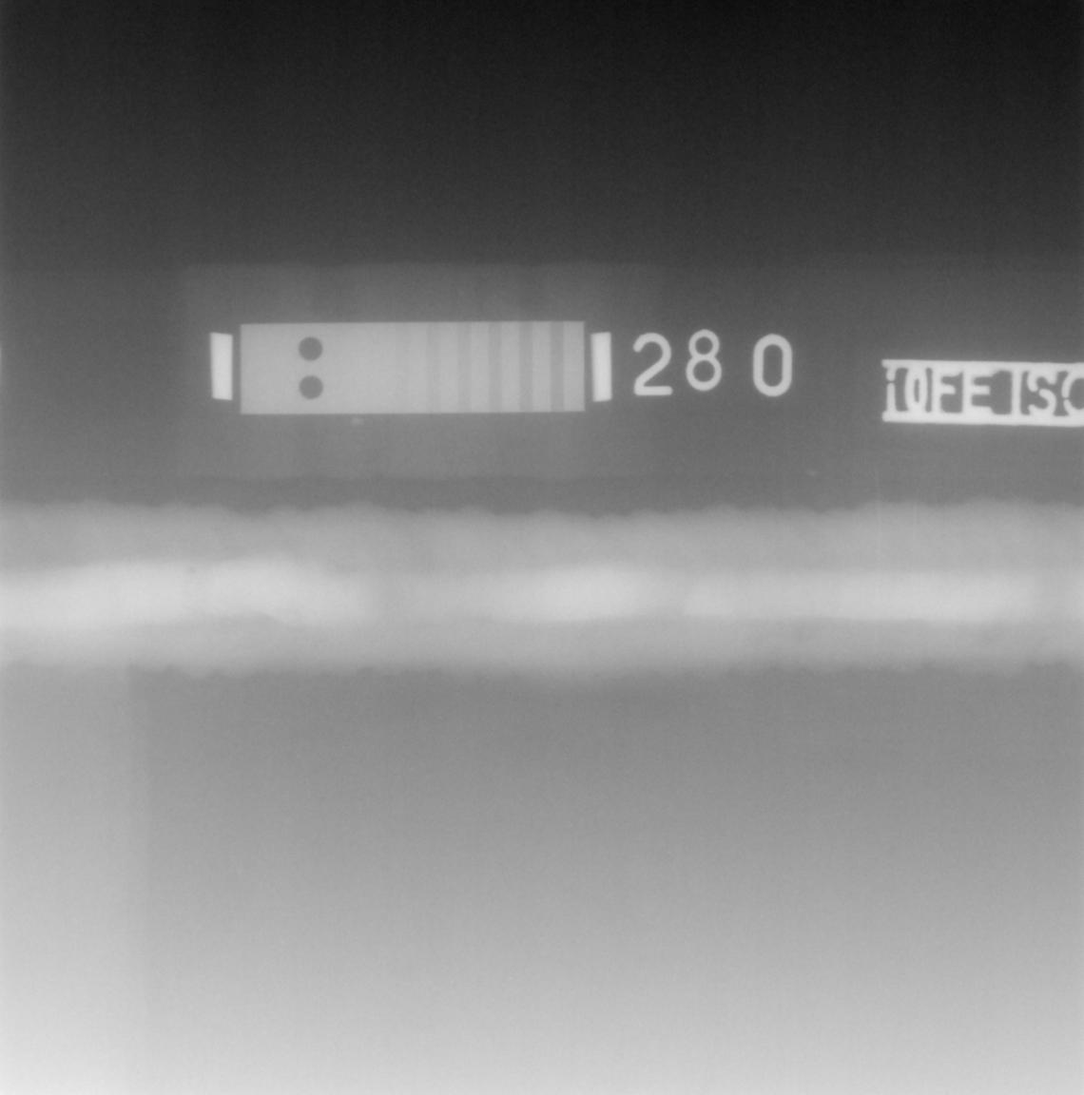Pore/Porosity: (186, 566, 194, 575)
Reference Standard 2: (240, 321, 587, 415)
